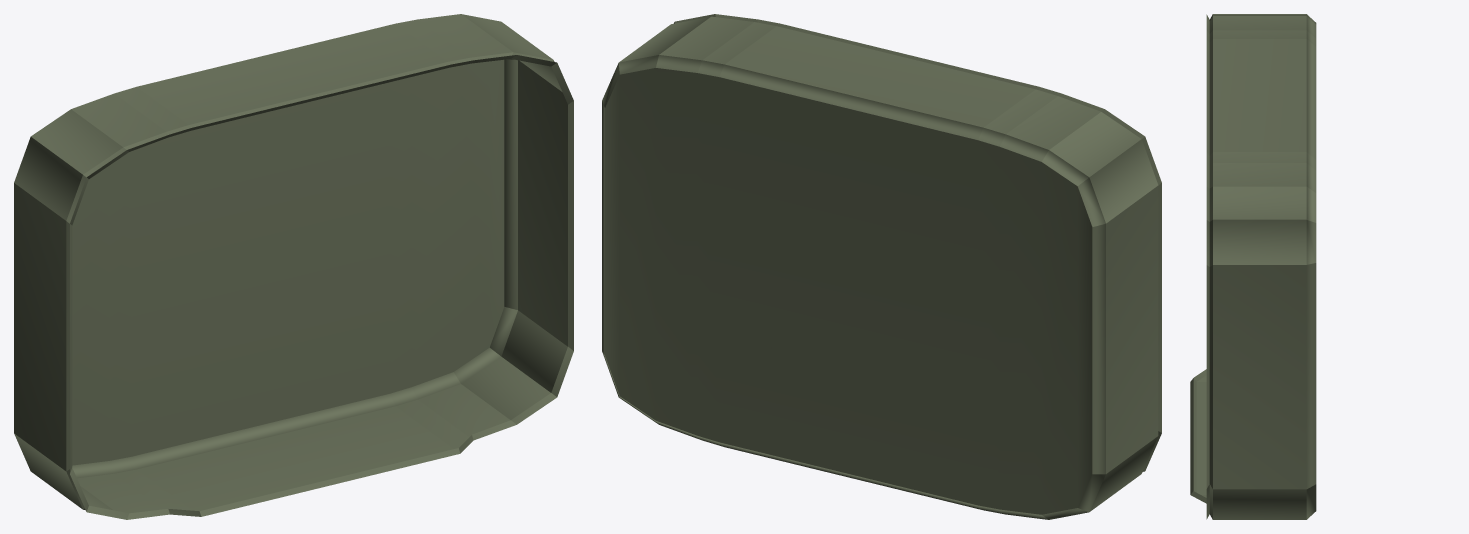
Rendered from MeshBin_7_0_GeomSubset_1.obj.
3 renders of one model, left to right at view 1: azimuth 30°, elevation 25°; view 2: azimuth 150°, elevation 25°; view 3: azimuth 270°, elevation 25°, orthographic. The views are drawn at different scales.
Parts seen in each view (by area): view 1: MeshBin_7_0_GeomSubset_1; view 2: MeshBin_7_0_GeomSubset_1; view 3: MeshBin_7_0_GeomSubset_1.
Boxes of the visible parts, box(x1,y1,x2,y2) form: MeshBin_7_0_GeomSubset_1: box(14, 14, 573, 519); MeshBin_7_0_GeomSubset_1: box(602, 14, 1161, 519); MeshBin_7_0_GeomSubset_1: box(1190, 14, 1316, 519).
Bounding box in the file's own units: 0.3769 × 0.2735 × 0.1909.
